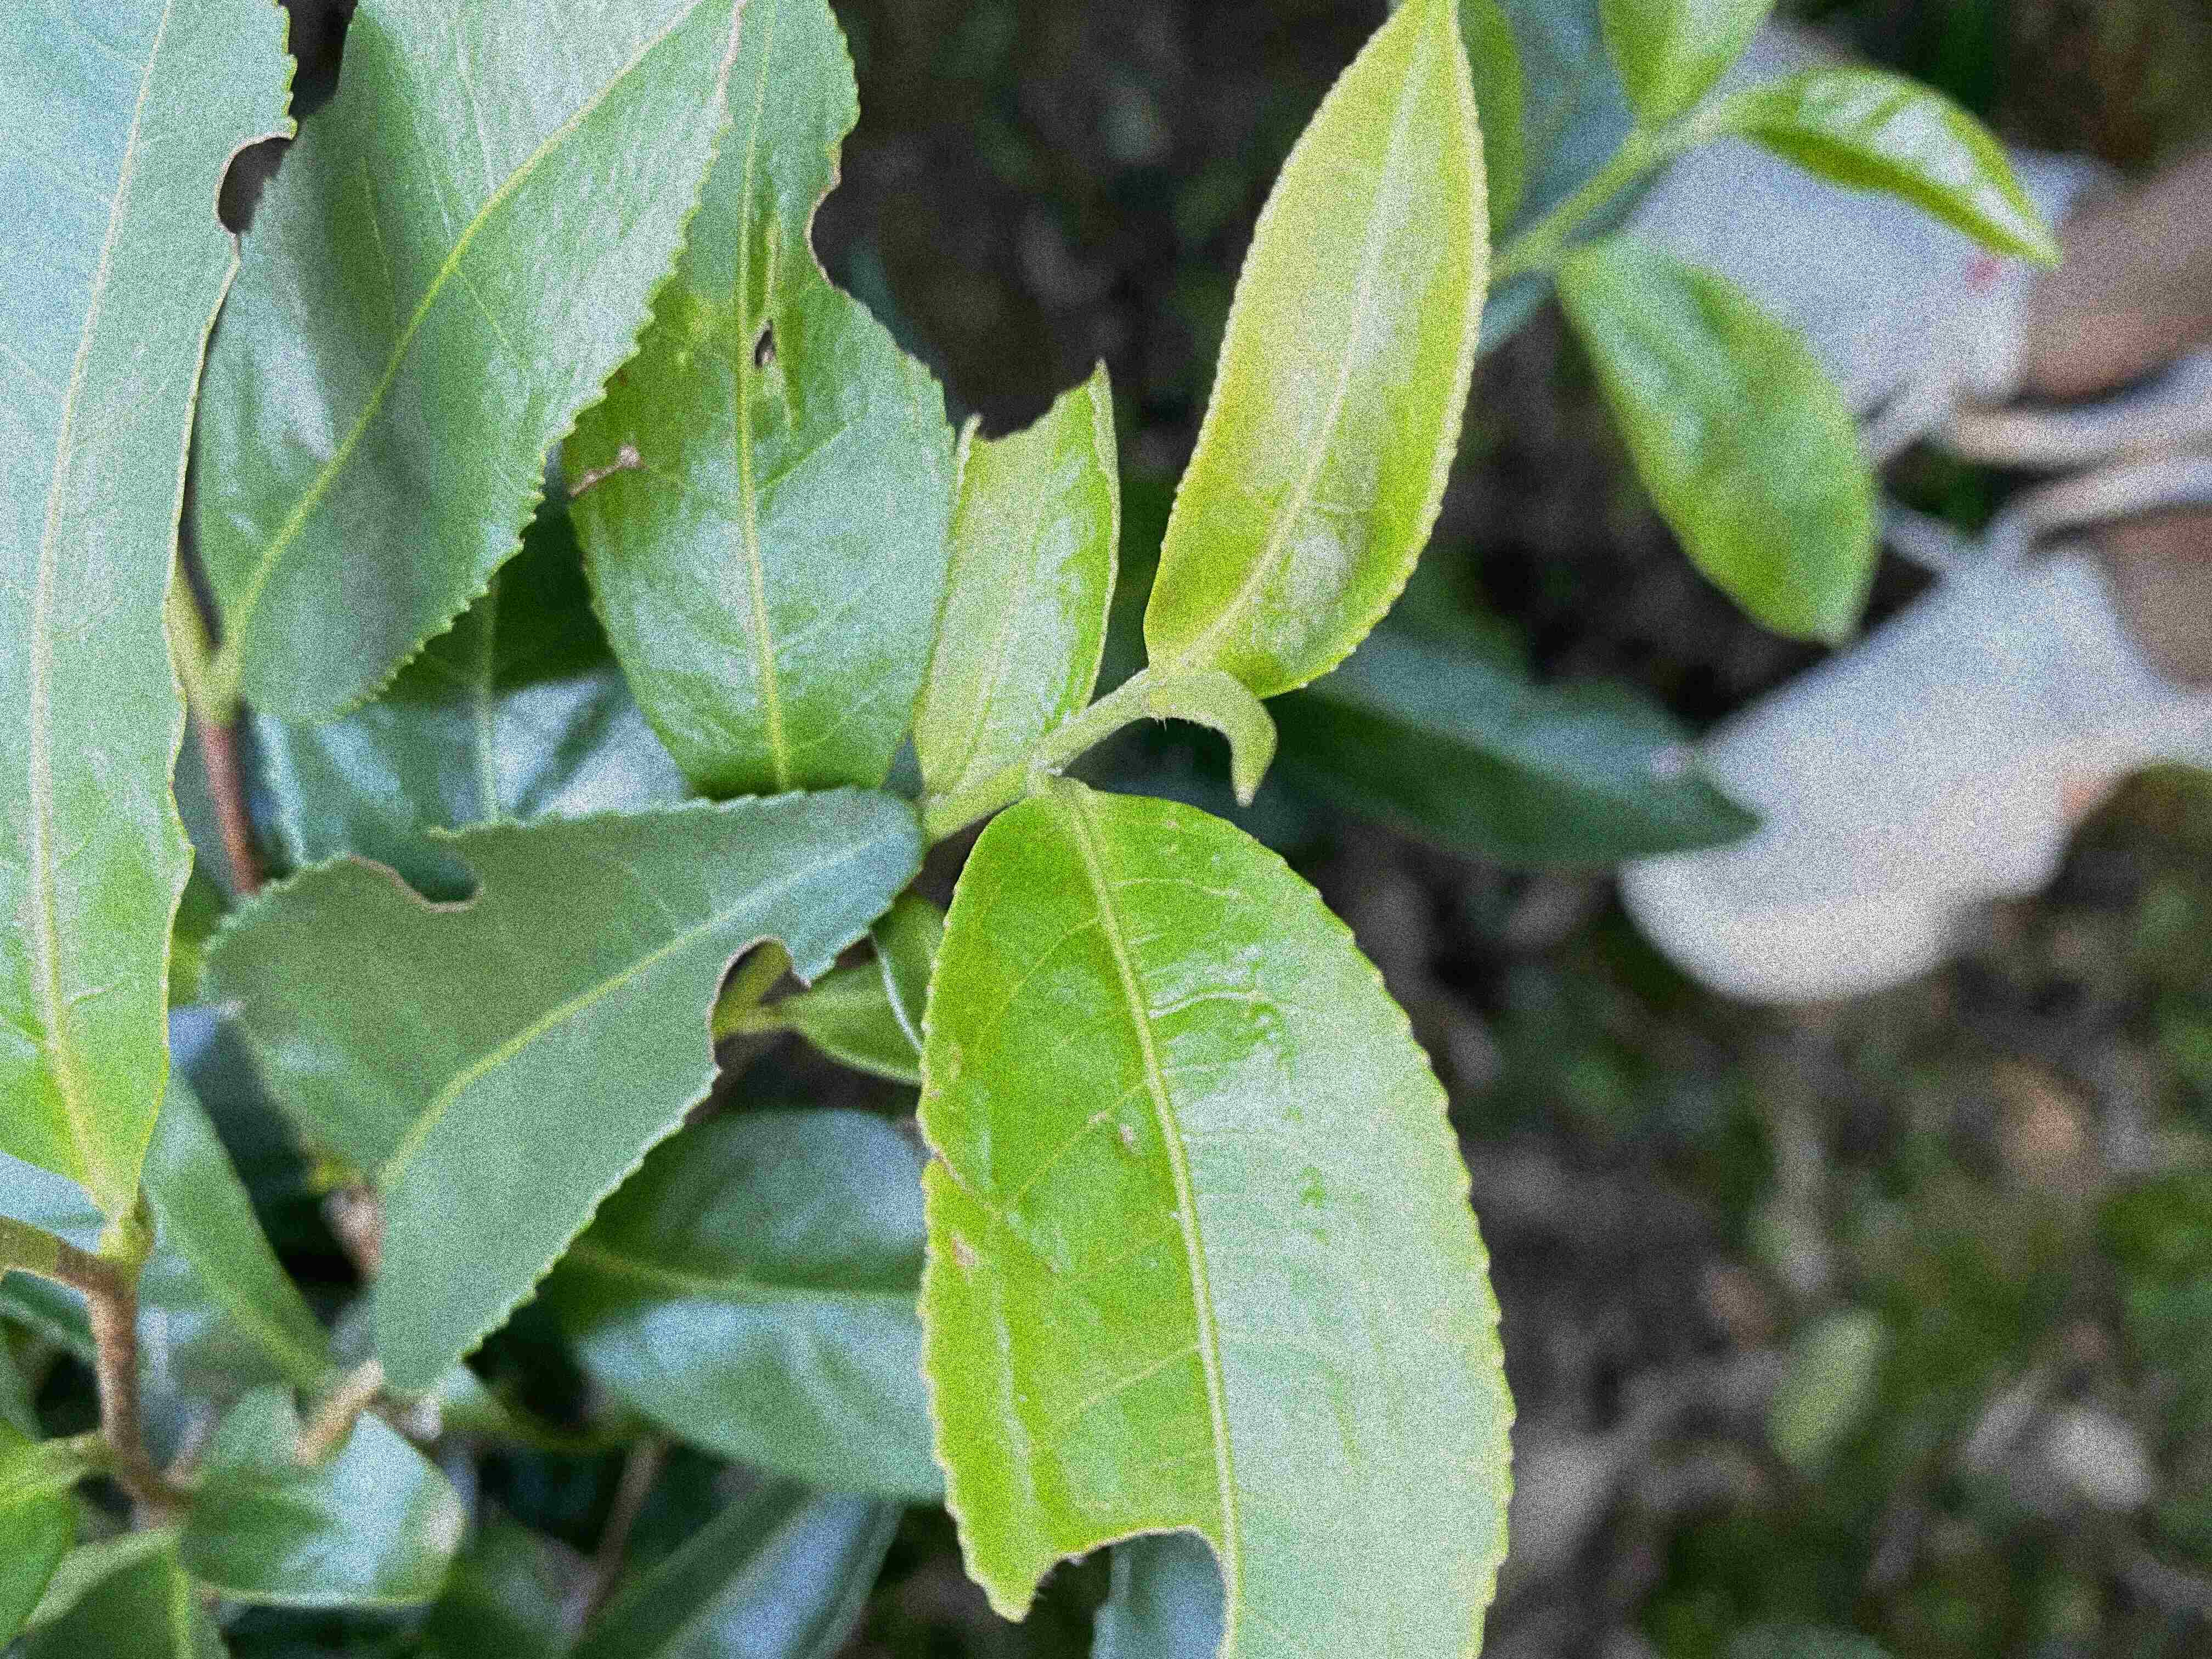chihuo_high: (195, 784, 925, 1396), (556, 2, 958, 795)
chihuo_low: (914, 779, 1521, 1657), (3, 3, 300, 1199), (911, 361, 1130, 784)
healthy: (1143, 2, 1491, 701)
